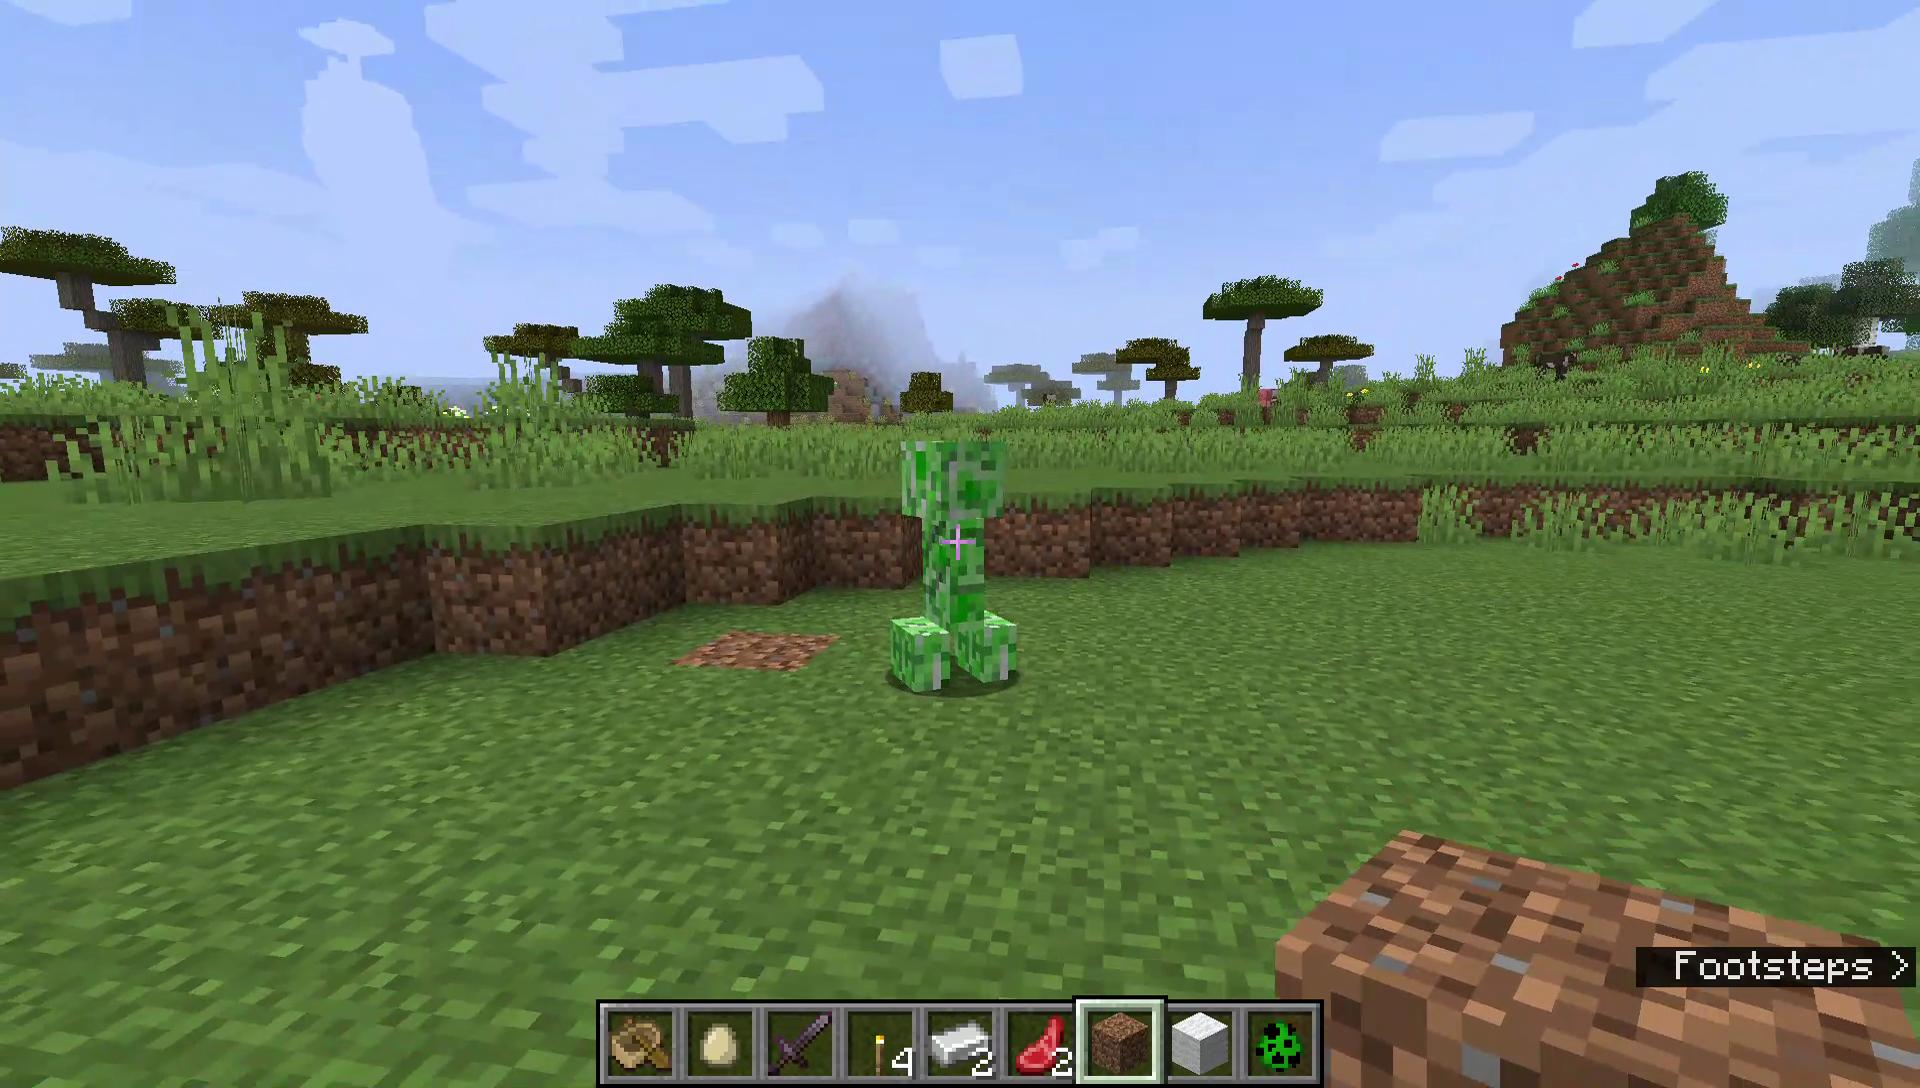cow: (1534, 347, 1581, 384)
creeper: (885, 433, 1025, 694)
pig: (1254, 385, 1274, 409)
